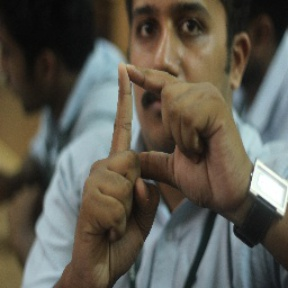D: (93, 58, 213, 193)
